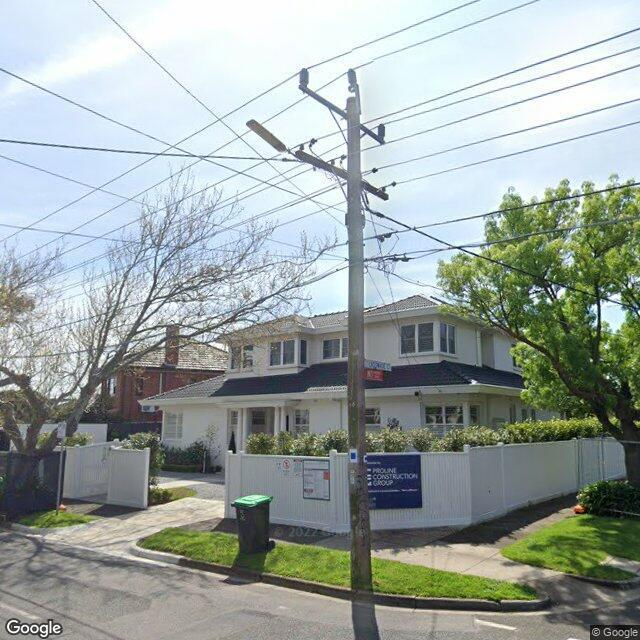HV-transmission: (299, 67, 386, 139)
crossarm: (297, 85, 387, 146), (295, 150, 389, 200)
streetlight: (246, 118, 298, 158)
timber-pole: (346, 97, 372, 590)
